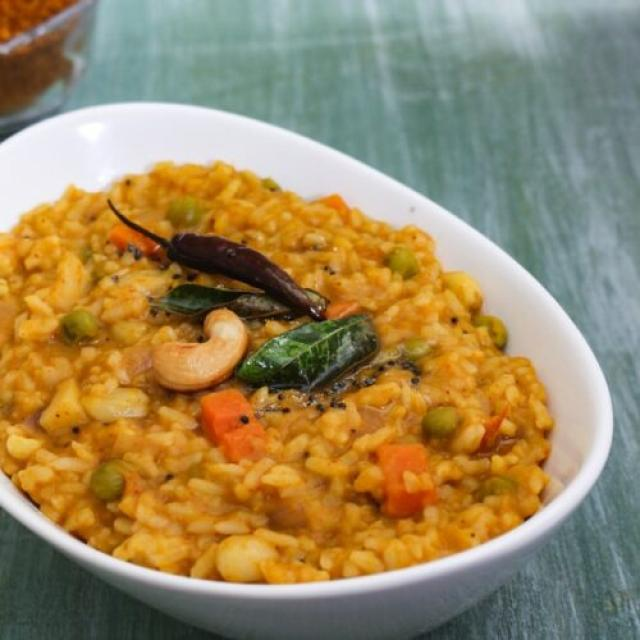bisibele bath: (0, 93, 623, 639)
